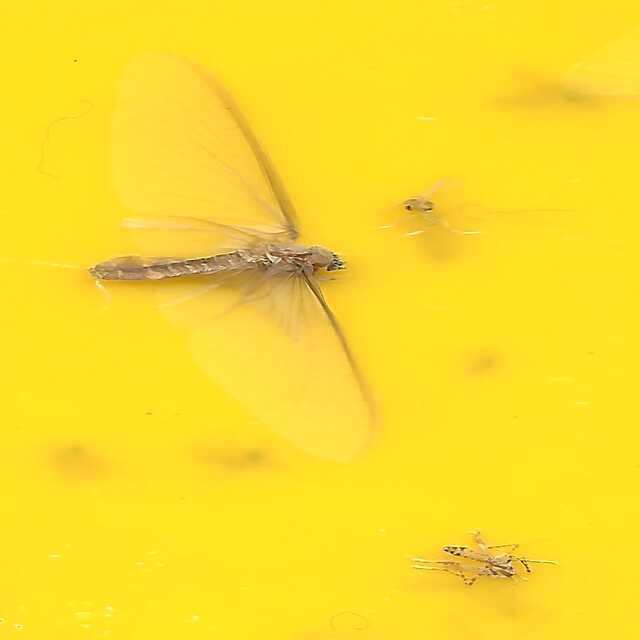Ephemeroptera: (90, 52, 386, 456)
Nematocera: (416, 535, 550, 588)
